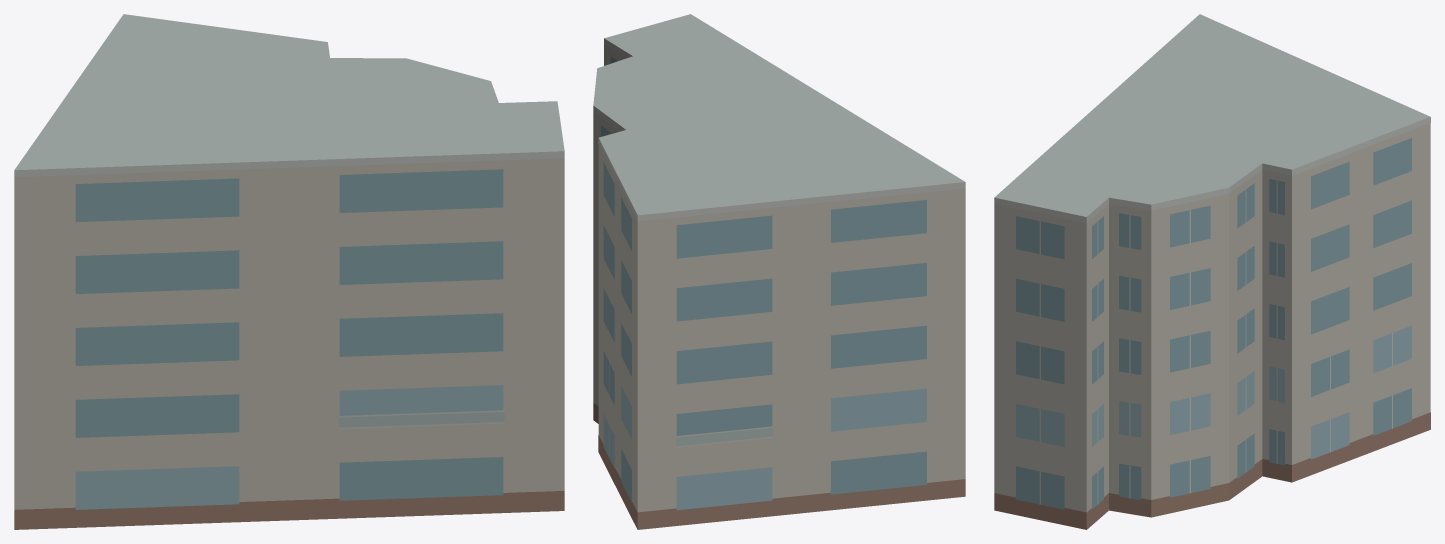
File: survey-upis-32641144.glb
3 renders of one model, left to right at view 1: azimuth 30°, elevation 25°; view 2: azimuth 150°, elevation 25°; view 3: azimuth 270°, elevation 25°, orthographic. The views are drawn at different scales.
Visible parts, largest first — view 1: survey-upis-32641144.tmp; view 2: survey-upis-32641144.tmp; view 3: survey-upis-32641144.tmp.
Part boxes in pixels (x1,y1,x2,y2): survey-upis-32641144.tmp: [14, 14, 564, 529]; survey-upis-32641144.tmp: [593, 14, 965, 529]; survey-upis-32641144.tmp: [994, 14, 1430, 529].
Bounding box in the file's own units: 17.34 × 12.45 × 15.75.
